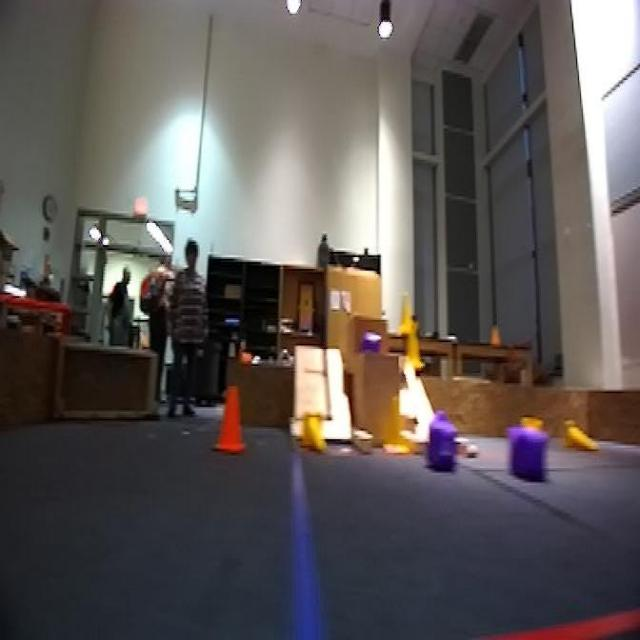frc_cone: (383, 393, 412, 455), (561, 420, 597, 454), (403, 325, 425, 373), (302, 414, 328, 454), (398, 300, 417, 335), (519, 412, 543, 429)
frc_cube: (510, 427, 550, 480), (421, 419, 457, 468), (358, 332, 381, 352)
